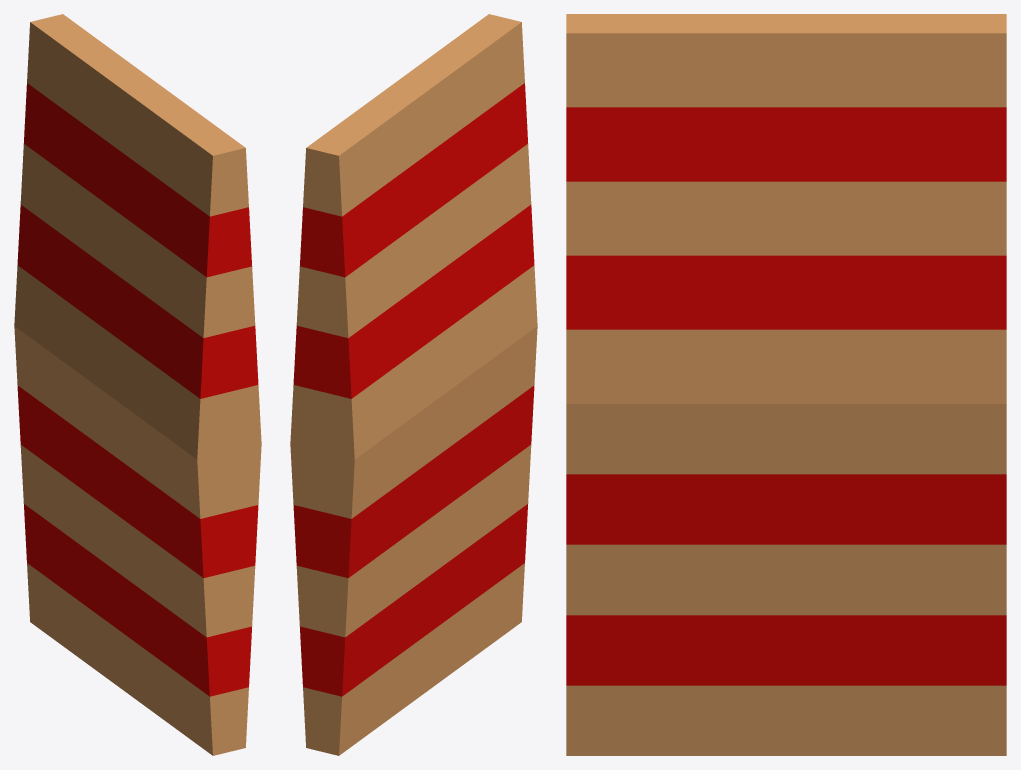
The model's file is EgyptDoor.fbx.
3 renders of one model, left to right at view 1: azimuth 30°, elevation 25°; view 2: azimuth 150°, elevation 25°; view 3: azimuth 270°, elevation 25°, orthographic. The views are drawn at different scales.
Parts seen in each view (by area): view 1: Cube; view 2: Cube; view 3: Cube.
Part boxes in pixels (x1,y1,x2,y2): Cube: (14, 14, 261, 755); Cube: (290, 14, 537, 755); Cube: (566, 14, 1006, 755).
Size of the model in its own units: 202 by 995 by 1802.
